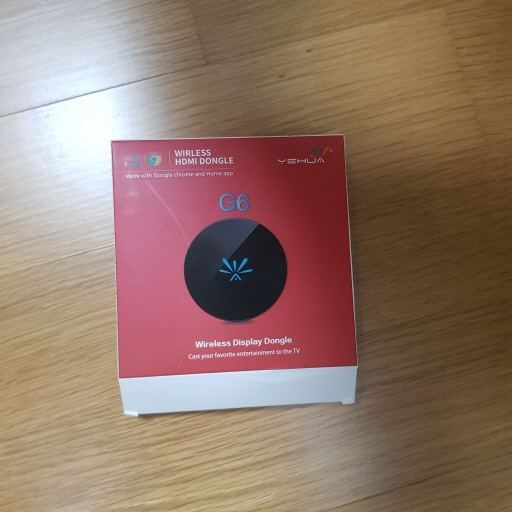Paper_0: (109, 125, 362, 429)
